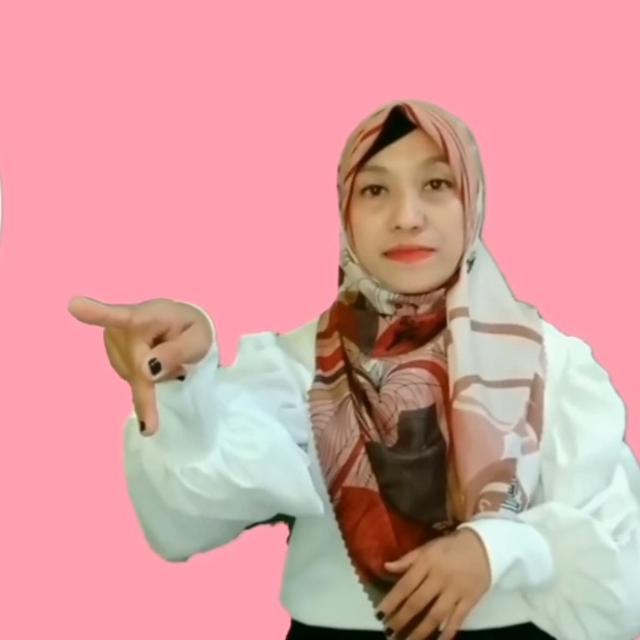P: (65, 284, 211, 442)
